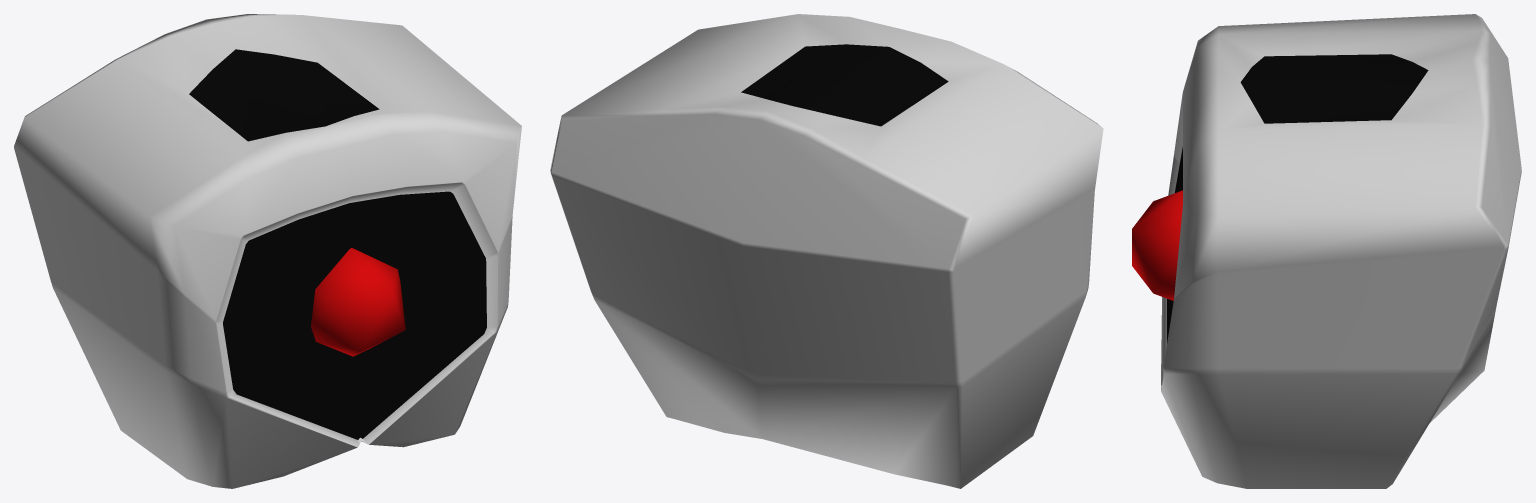
The model's file is Body_A.fbx.
3 views of the same model, side by side, from view 1: azimuth 30°, elevation 25°; view 2: azimuth 150°, elevation 25°; view 3: azimuth 270°, elevation 25° (orthographic). The views are drawn at different scales.
Parts seen in each view (by area): view 1: Body_A; view 2: Body_A; view 3: Body_A.
Boxes of the visible parts, x1,y1,x2,y2 form: Body_A: [14, 14, 521, 488]; Body_A: [550, 14, 1103, 488]; Body_A: [1132, 14, 1521, 488].
Bounding box in the file's own units: 70.45 × 61.24 × 60.01.
